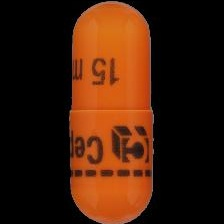16590-596: (0, 0, 224, 224)
